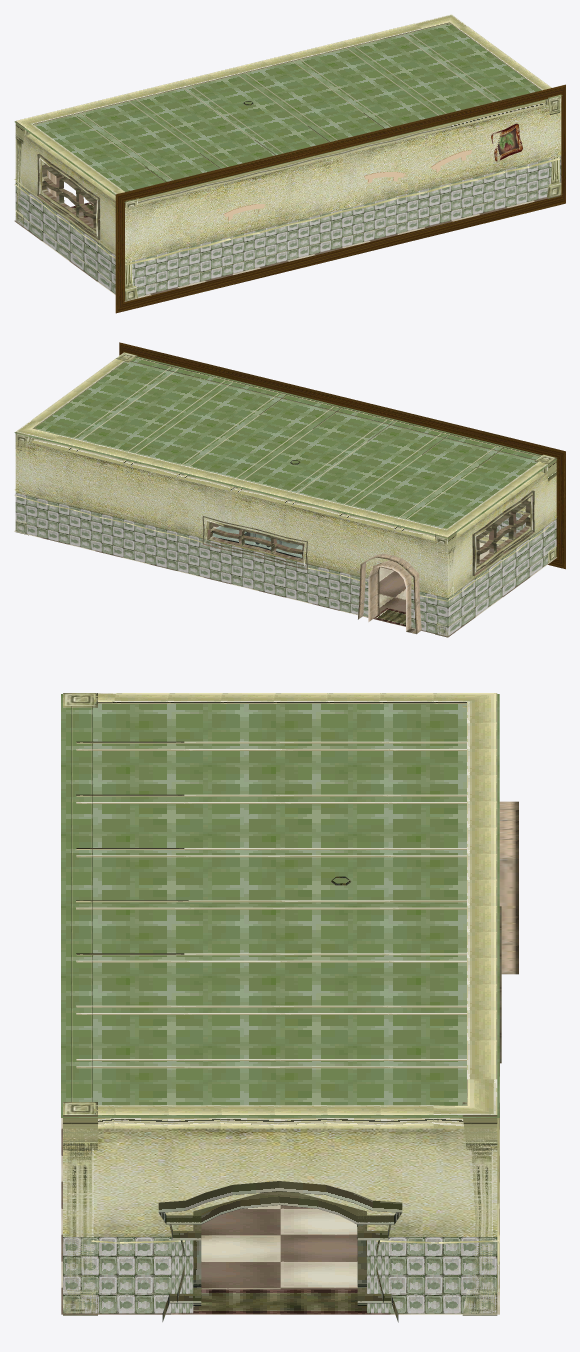
Rendered from room_08.glb.
3 renders of one model, top to bottom at view 1: azimuth 30°, elevation 25°; view 2: azimuth 150°, elevation 25°; view 3: azimuth 270°, elevation 25°, orthographic. The views are drawn at different scales.
Visible parts, largest first — view 1: room_08; view 2: room_08; view 3: room_08.
Boxes of the visible parts, x1,y1,x2,y2 form: room_08: (14,14,565,313); room_08: (14,342,565,637); room_08: (61,693,518,1322).
Bounding box in the file's own units: 2401 × 600 × 1055.
28 materials, 28 textured.
